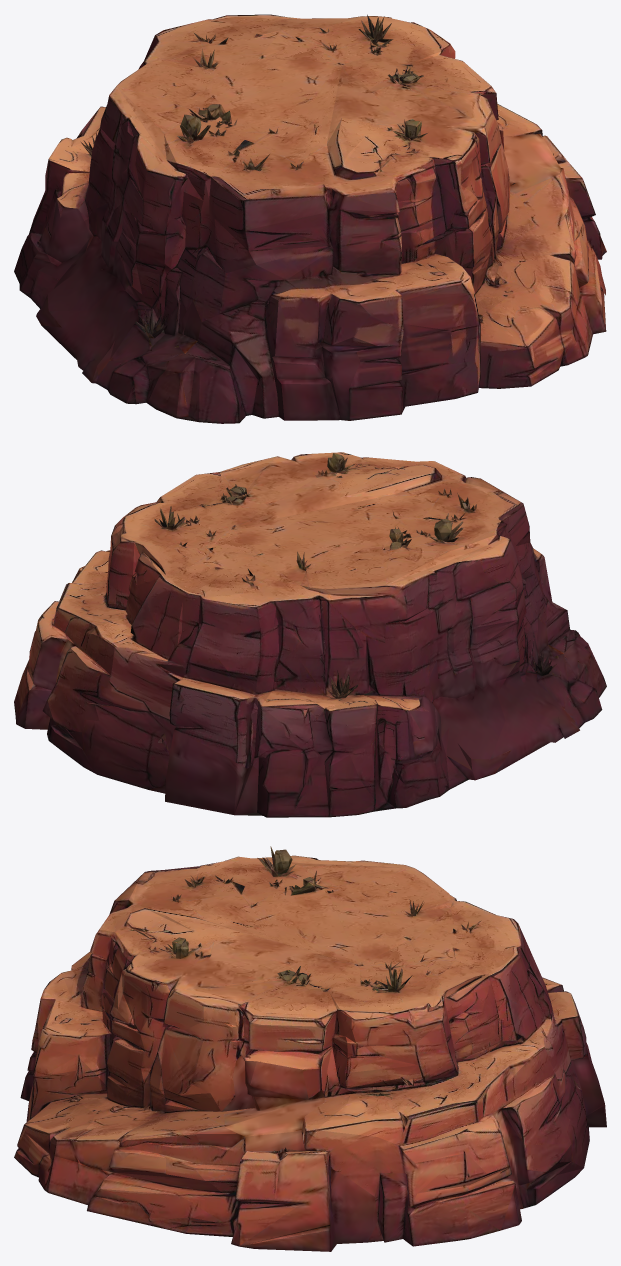
File: mesa.glb
3 views of the same model, one above another, from view 1: azimuth 30°, elevation 25°; view 2: azimuth 150°, elevation 25°; view 3: azimuth 270°, elevation 25° (orthographic). The views are drawn at different scales.
Bounding box in the file's own units: 1.86 × 0.7407 × 1.88.
1 material, 1 textured.
